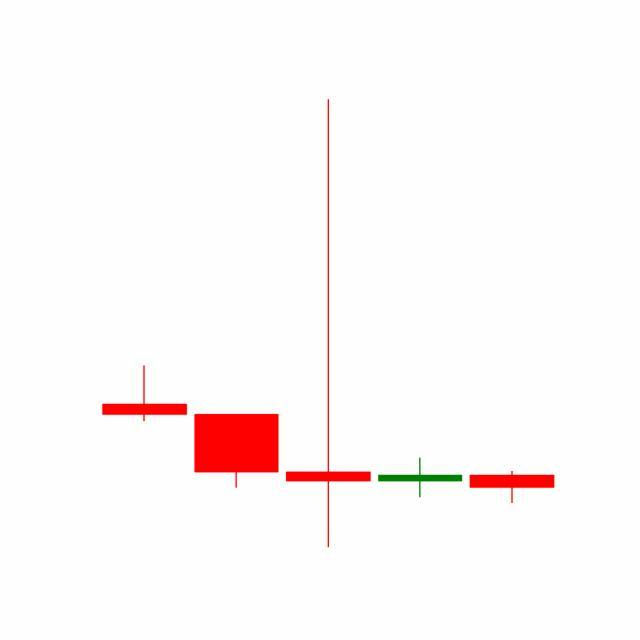Spinning Top: (374, 458, 468, 500)
